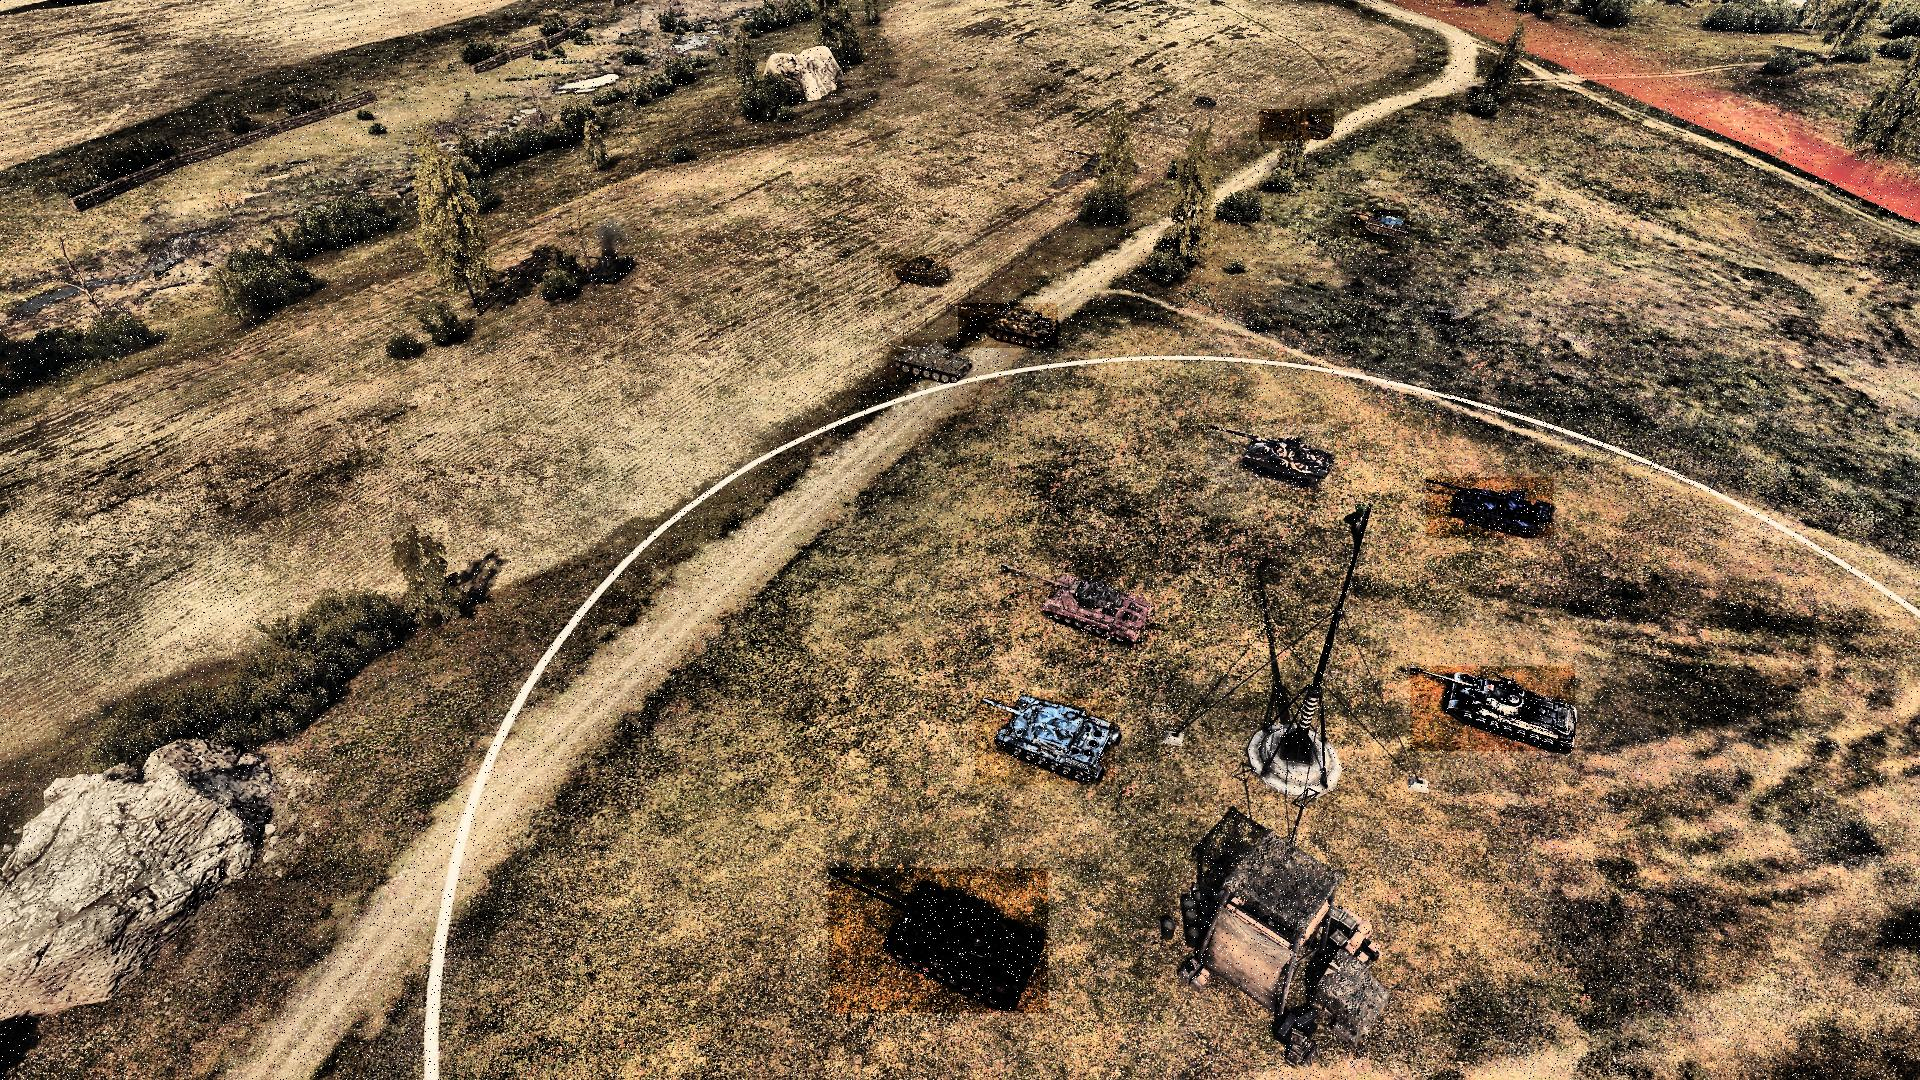military-vehicle: (828, 868, 1048, 1013), (1410, 667, 1575, 752), (998, 560, 1155, 646), (975, 694, 1116, 785), (1427, 477, 1555, 538), (1208, 425, 1332, 487), (959, 303, 1059, 348), (887, 340, 973, 385), (1259, 109, 1335, 142), (882, 255, 949, 286), (1352, 210, 1410, 237)
